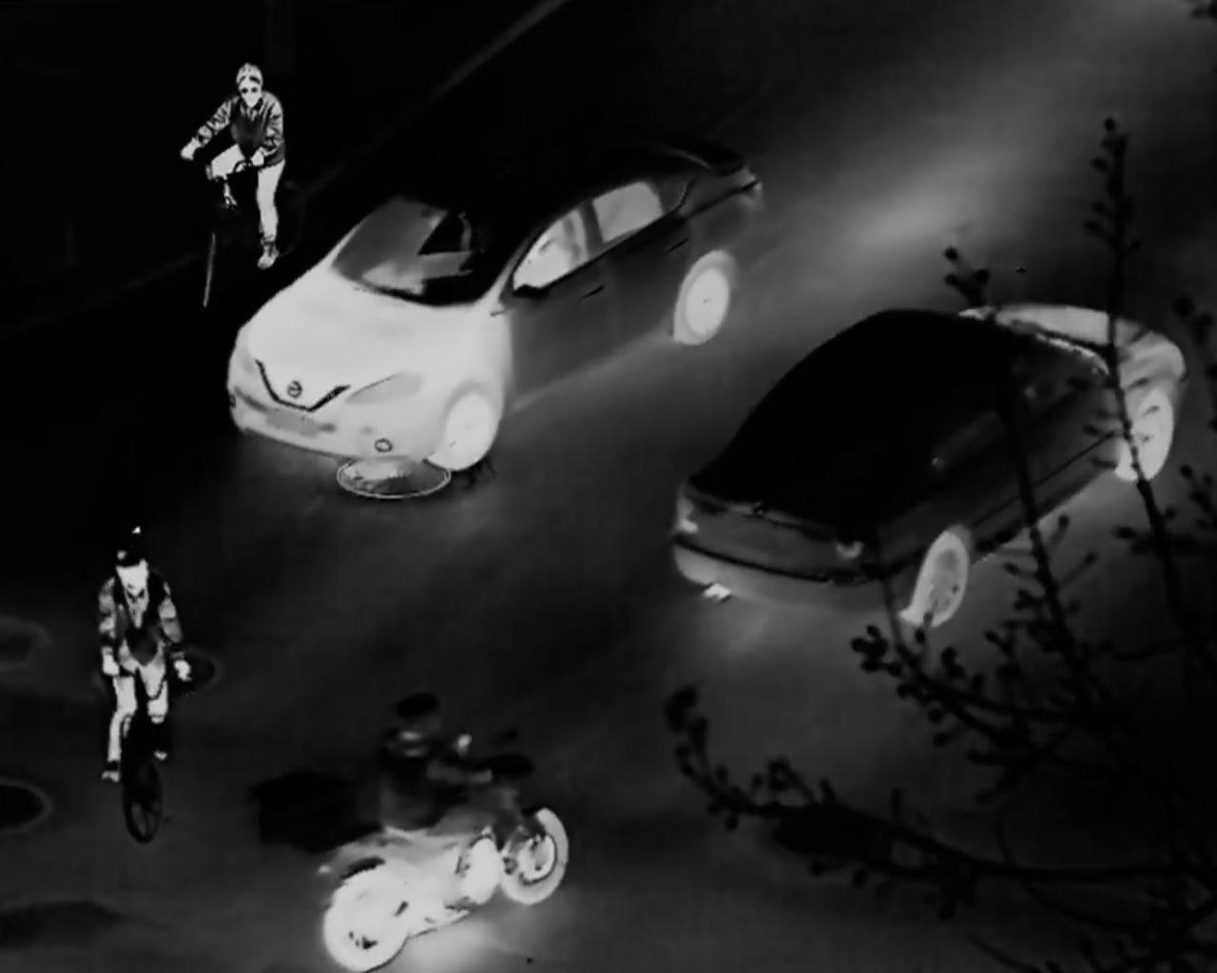person: (371, 694, 526, 921), (90, 558, 181, 795), (181, 65, 291, 257)
